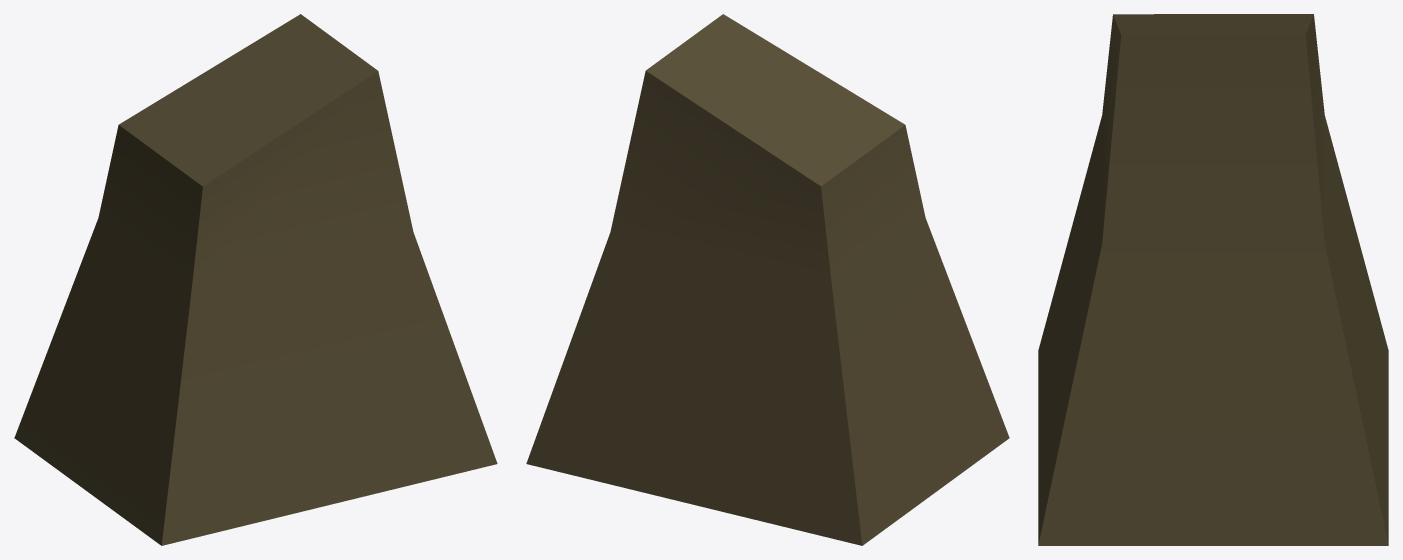
The model's file is Tree1Stump.fbx.
The picture shows the model from 3 angles, left to right: view 1: azimuth 30°, elevation 25°; view 2: azimuth 150°, elevation 25°; view 3: azimuth 270°, elevation 25°; orthographic projection. The views are drawn at different scales.
Parts seen in each view (by area): view 1: pasted__pCube1; view 2: pasted__pCube1; view 3: pasted__pCube1.
Boxes of the visible parts, x1,y1,x2,y2 form: pasted__pCube1: [14, 14, 497, 545]; pasted__pCube1: [526, 14, 1009, 545]; pasted__pCube1: [1038, 14, 1388, 545].
Bounding box in the file's own units: 2.33 × 2.58 × 1.77.
